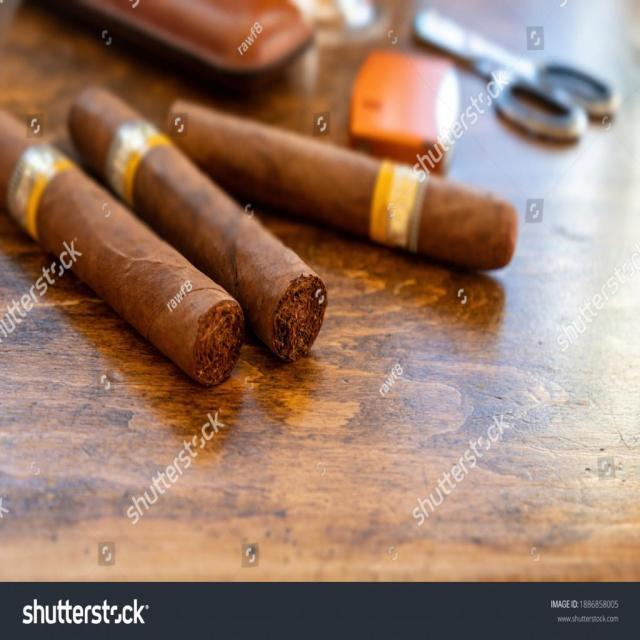smoking: (0, 0, 327, 457)
